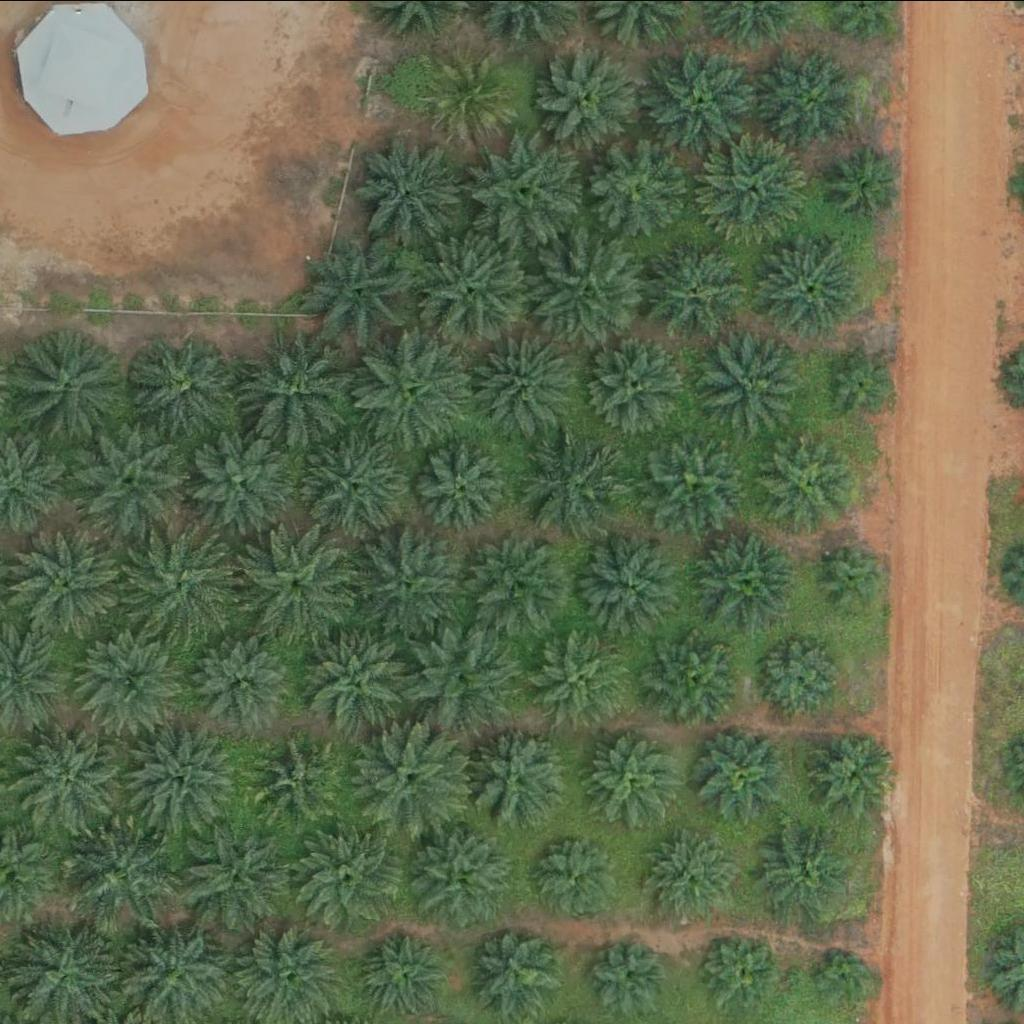Kelapa_Sawit: (353, 129, 467, 242), (469, 131, 583, 244), (304, 231, 418, 344), (17, 714, 130, 827), (76, 621, 189, 734), (16, 330, 129, 443), (642, 42, 755, 155), (243, 526, 356, 639), (348, 527, 461, 640), (297, 624, 410, 737), (14, 526, 128, 638), (75, 423, 189, 535), (410, 232, 524, 344), (243, 329, 357, 441), (703, 130, 816, 242), (66, 819, 179, 931), (123, 531, 236, 643), (535, 235, 648, 347), (357, 332, 470, 444), (302, 428, 415, 540), (404, 619, 517, 731), (353, 721, 466, 833), (292, 822, 405, 934), (187, 426, 300, 538), (120, 722, 233, 834), (179, 818, 292, 930), (760, 48, 861, 148), (651, 239, 752, 339), (758, 235, 859, 335), (474, 333, 575, 433), (587, 332, 688, 432), (696, 332, 797, 432), (519, 433, 620, 533), (645, 431, 746, 531), (757, 431, 858, 531), (469, 525, 570, 625), (577, 531, 678, 631), (699, 530, 800, 630), (526, 624, 627, 724), (643, 625, 744, 725), (468, 726, 569, 826), (584, 727, 685, 827), (412, 823, 513, 923), (135, 333, 235, 433), (541, 44, 641, 144), (591, 138, 691, 238), (801, 724, 901, 824), (751, 818, 851, 918), (254, 735, 343, 823), (431, 51, 519, 139), (757, 631, 845, 719), (421, 444, 509, 531), (697, 727, 785, 814), (528, 833, 616, 920), (640, 831, 728, 918), (358, 934, 446, 1021), (477, 928, 565, 1015), (197, 635, 285, 722), (592, 940, 668, 1015), (816, 538, 892, 613), (701, 933, 777, 1008), (830, 146, 905, 221), (824, 342, 899, 417), (814, 944, 877, 1006)
